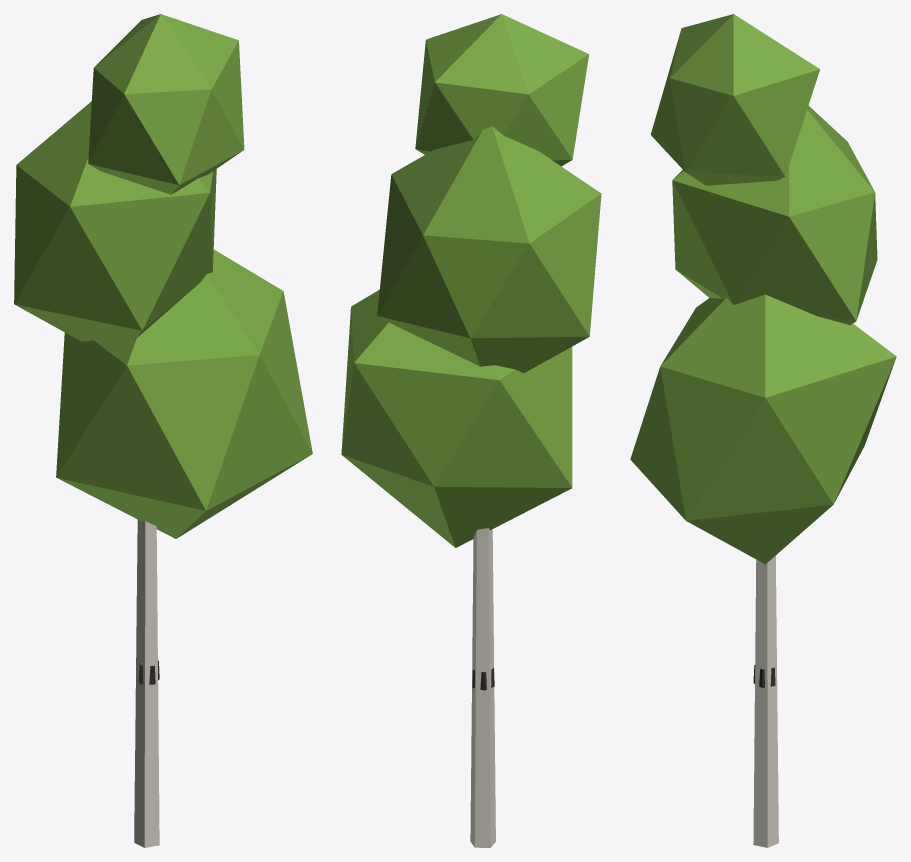
The model's file is bouleau.glb.
The picture shows the model from 3 angles, left to right: view 1: azimuth 30°, elevation 25°; view 2: azimuth 150°, elevation 25°; view 3: azimuth 270°, elevation 25°; orthographic projection. The views are drawn at different scales.
Visible parts, largest first — view 1: bouleau; view 2: bouleau; view 3: bouleau.
Boxes of the visible parts, left/top/right/bottom form: bouleau: left=14, top=14, right=312, bottom=847; bouleau: left=341, top=14, right=601, bottom=847; bouleau: left=630, top=14, right=896, bottom=847.
Size of the model in its own units: 3.66 by 11.43 by 3.34.
Materials: 1 (1 with a texture image).
